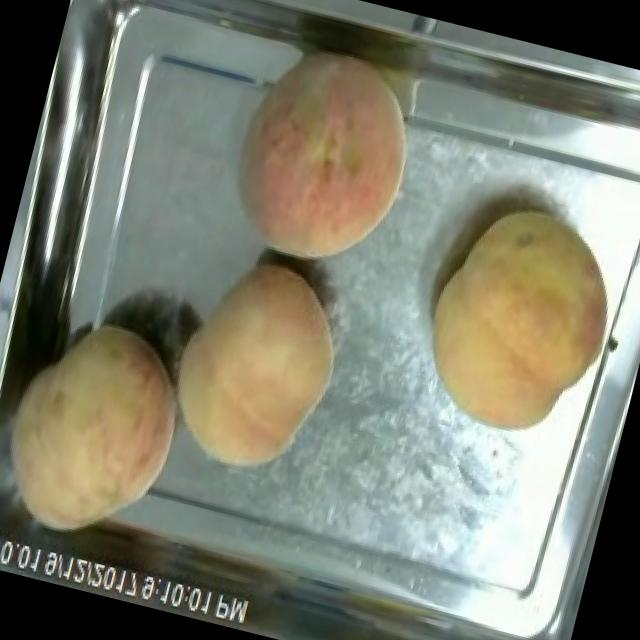Fruit: (400, 183, 640, 460), (212, 30, 439, 285), (144, 238, 363, 496), (0, 296, 209, 564)
